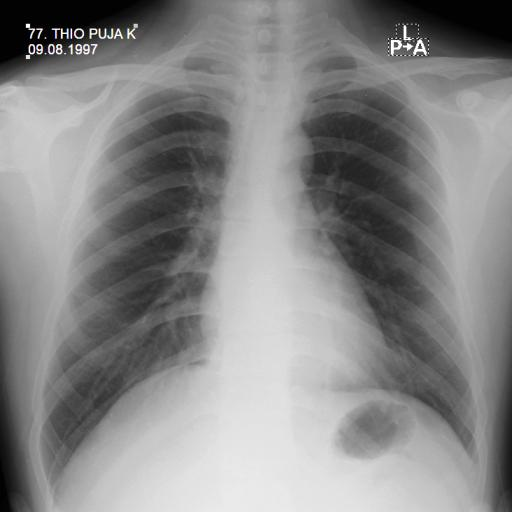normal: (32, 22, 499, 502)
